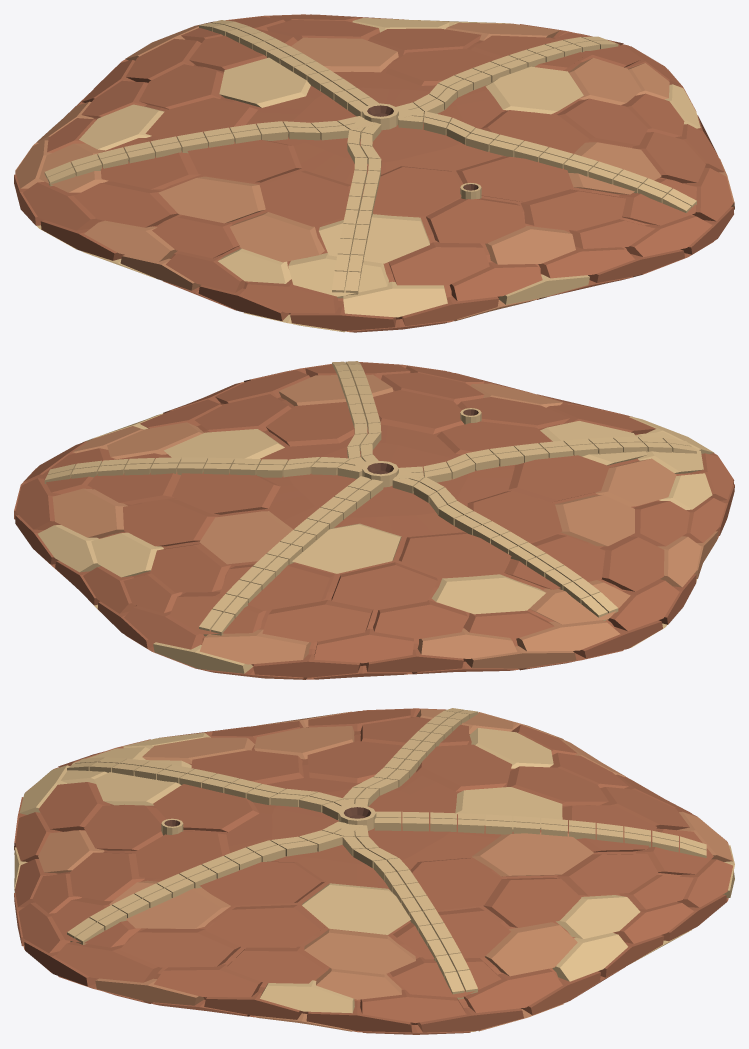
File: stromatocystites.glb
3 renders of one model, top to bottom at view 1: azimuth 30°, elevation 25°; view 2: azimuth 150°, elevation 25°; view 3: azimuth 270°, elevation 25°, orthographic. The views are drawn at different scales.
Visible parts, largest first — view 1: stromatocystites-original-organism; view 2: stromatocystites-original-organism; view 3: stromatocystites-original-organism.
Part boxes in pixels (bbox=[...]): stromatocystites-original-organism: bbox=[14, 14, 734, 332]; stromatocystites-original-organism: bbox=[14, 361, 734, 679]; stromatocystites-original-organism: bbox=[14, 708, 734, 1034].
Size of the model in its own units: 0.0321 by 0.00545 by 0.0312.
